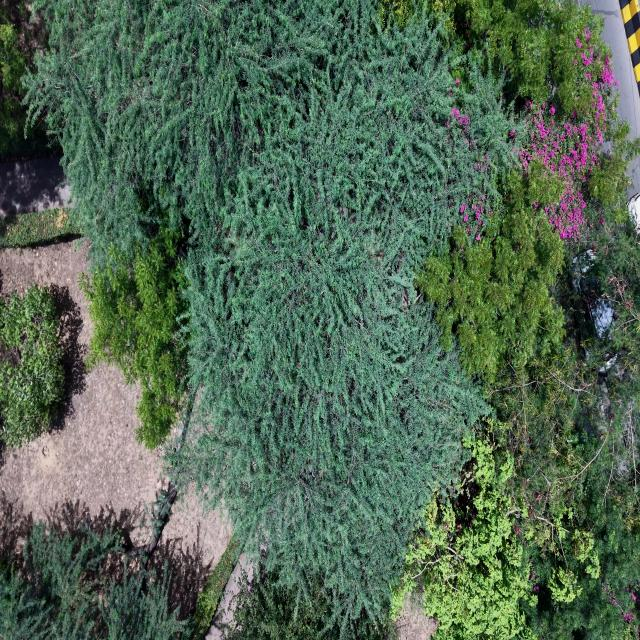DRY_AREA: (0, 241, 166, 554), (0, 241, 162, 552), (588, 0, 639, 138), (0, 158, 69, 216), (397, 595, 437, 639)
PATHWAYS: (591, 0, 639, 137)
VEGETATION_TREE: (26, 0, 639, 639), (30, 2, 513, 624), (184, 3, 510, 626), (418, 6, 639, 638), (27, 0, 517, 262), (186, 299, 484, 619), (416, 21, 625, 382), (496, 220, 639, 638), (489, 292, 638, 638), (395, 440, 637, 639), (488, 327, 639, 638), (0, 483, 238, 639), (416, 175, 564, 382), (393, 436, 536, 639), (80, 228, 186, 448), (0, 523, 188, 639), (427, 0, 610, 118), (519, 29, 618, 239), (456, 0, 610, 119), (226, 568, 390, 639), (0, 286, 64, 446), (585, 219, 639, 397), (0, 0, 50, 158), (193, 538, 240, 639), (127, 482, 177, 569), (0, 2, 27, 154), (0, 4, 25, 153), (0, 208, 81, 248)
